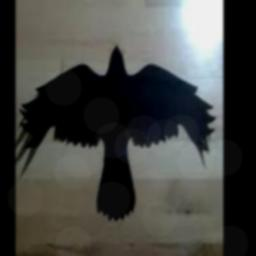Crow: (20, 45, 215, 221)
